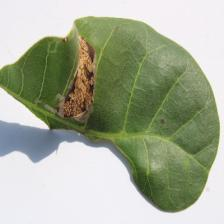leaf miner: (0, 15, 221, 213), (54, 35, 97, 123)
